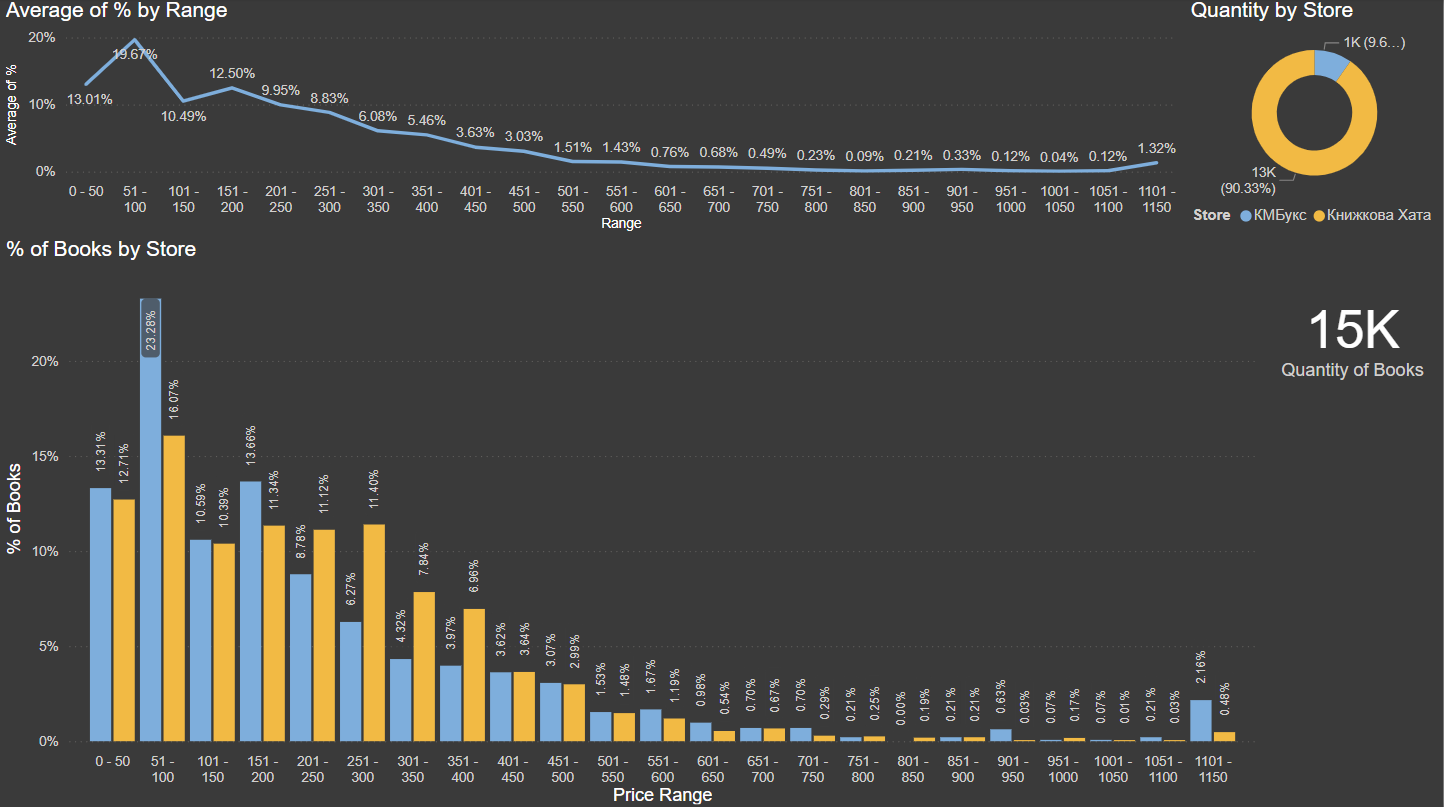

This screenshot's page, from the dashboard's own definition file:
{"tool":"powerbi","page":{"name":"Page 1","canvas":[1280,720],"ordinal":0},"visuals":[{"type":"lineClusteredColumnComboChart","title":"% of Books by Store","fields":{"Category":["Range.Range"],"Y":["Sum(Total.%)"],"Series":["Total.Book Store"]},"box":[0,211.9,1118.1,508.1],"z":0},{"type":"card","fields":{"Values":["Sum(Total.Quantity)"]},"box":[1118.1,211.9,162.3,174.7],"z":1000},{"type":"actionButton","box":[0,0,100,40],"z":2000},{"type":"donutChart","title":"Quantity by Store","fields":{"Series":["Total.Book Store"],"Y":["Sum(Total.Quantity)"]},"box":[1050.7,0,229.7,211.9],"z":3000},{"type":"lineChart","fields":{"Y":["Avg(Total.%)"],"Category":["Range.Range"]},"box":[0,0,1050.7,211.9],"z":3001}]}

Visuals, with their boxes in screenshot pixels (x1, y1, x2, y2), scaled from the page's 1280x720 canvas onto the 1444x807 screenshot:
"% of Books by Store" lineClusteredColumnComboChart: <box>0,238,1261,806</box>
card - Sum(Total.Quantity): <box>1261,238,1443,433</box>
actionButton: <box>0,0,113,45</box>
"Quantity by Store" donutChart: <box>1185,0,1443,238</box>
lineChart - Avg(Total.%) x Range.Range: <box>0,0,1185,238</box>
